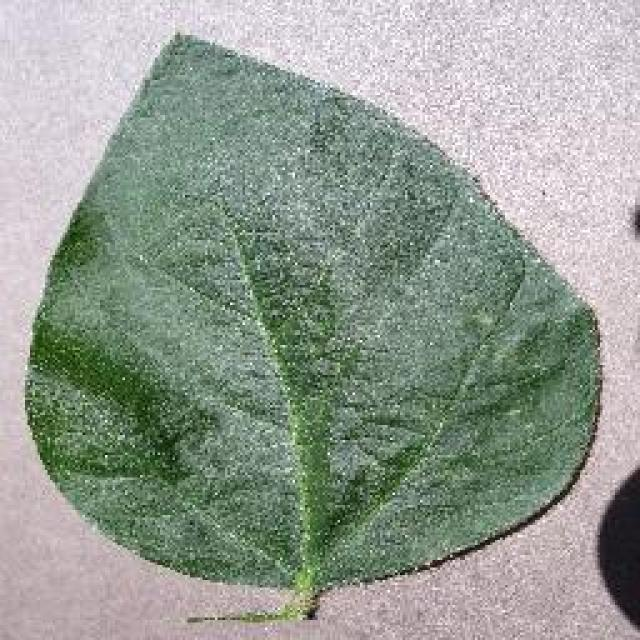healthy: (28, 38, 595, 618)
